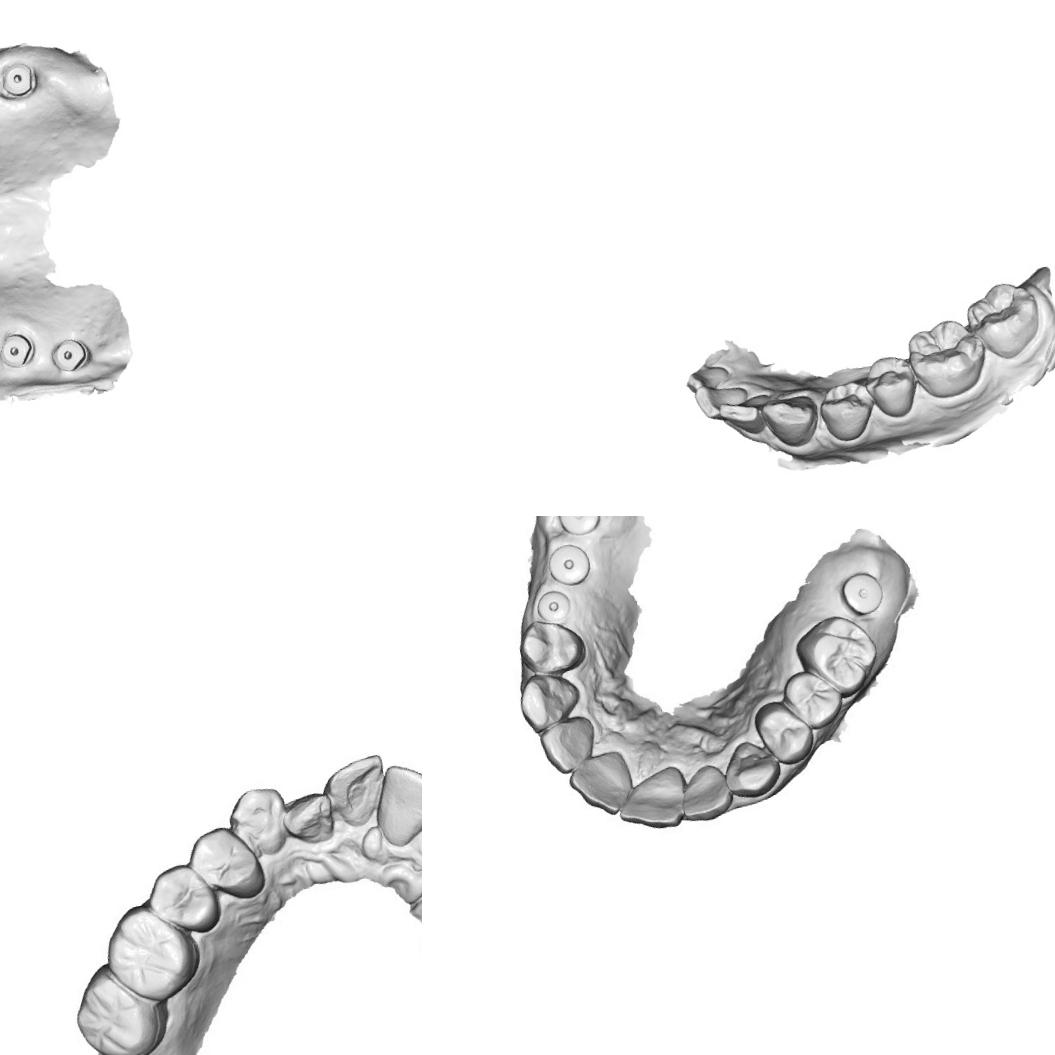canine: (222, 780, 296, 866), (514, 666, 580, 736), (757, 390, 823, 453), (722, 733, 780, 795)
implant: (836, 566, 888, 623), (543, 538, 594, 590), (528, 582, 577, 630), (46, 332, 94, 376), (0, 59, 38, 100), (0, 329, 37, 371), (551, 516, 606, 544)
incisor: (318, 751, 393, 834), (366, 752, 422, 847), (618, 766, 690, 836), (568, 750, 633, 814), (277, 785, 338, 852), (542, 713, 602, 774), (714, 389, 778, 440), (677, 761, 732, 818), (691, 377, 751, 421), (683, 362, 732, 393)
molar: (92, 893, 210, 1008), (62, 956, 168, 1055), (790, 606, 882, 708), (901, 311, 994, 405), (958, 274, 1048, 366)
premolar: (180, 815, 268, 910), (142, 858, 223, 941), (513, 610, 589, 682), (812, 376, 881, 447), (752, 696, 816, 769), (861, 349, 922, 422), (784, 668, 839, 729)
